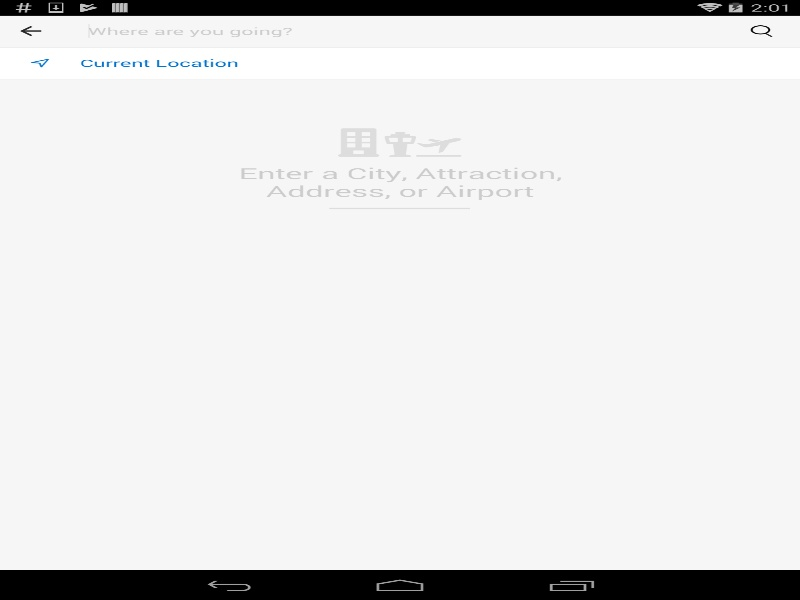Input: (48, 18, 744, 43)
